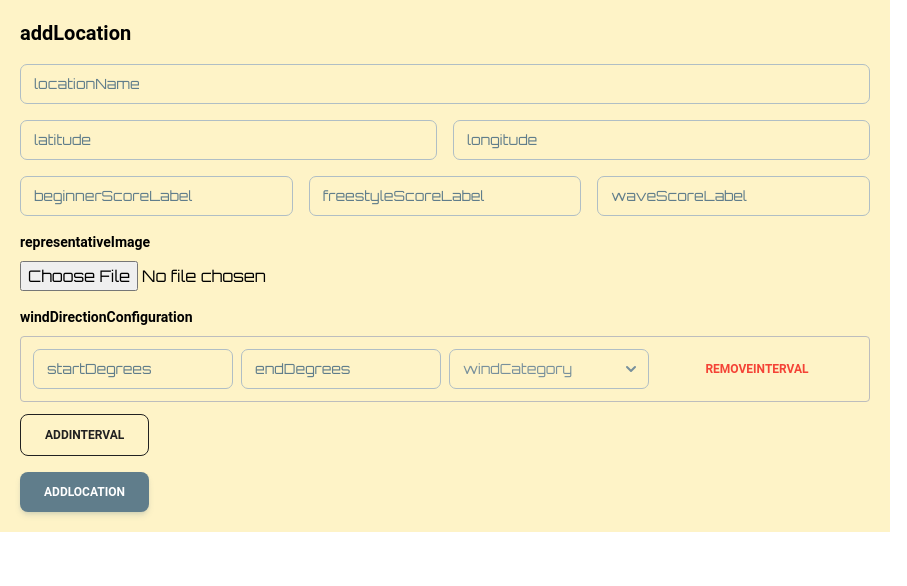
Test case: AddLocationForm › blocks submission when no wind direction classification has been chosen
Type "New Spot" into the field with test id "location-name-input" at (445, 84), box [20, 64, 870, 104]
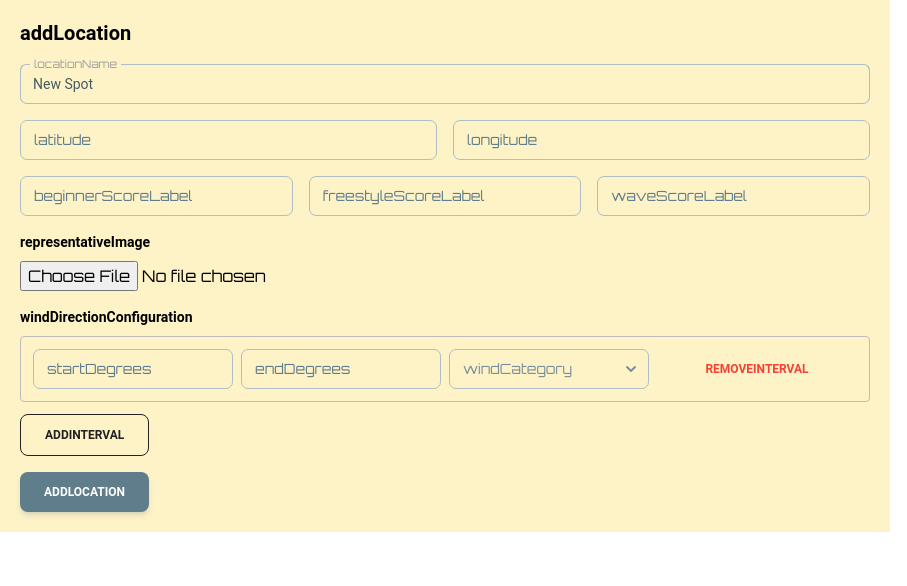
Type "58.5" into the number field with test id "location-latitude-input" at (228, 140), box [20, 120, 437, 160]
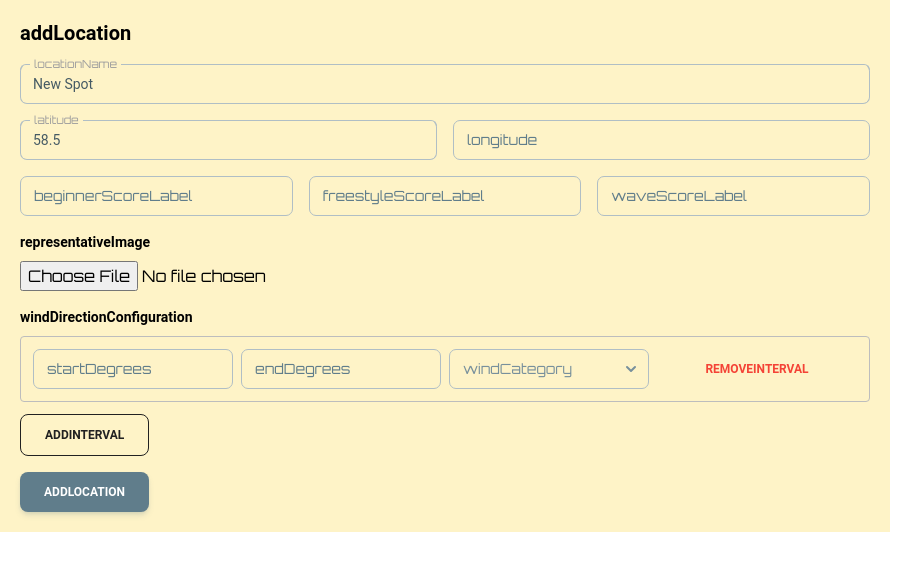
Type "5.6" into the number field with test id "location-longitude-input" at (662, 140), box [453, 120, 870, 160]
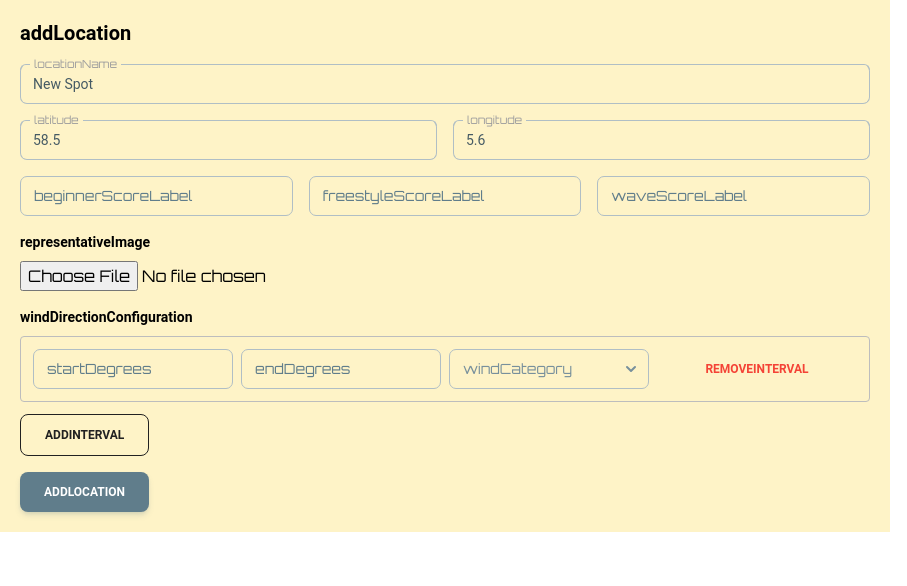
Click the button "addLocation" at (84, 492), box [20, 472, 149, 512]
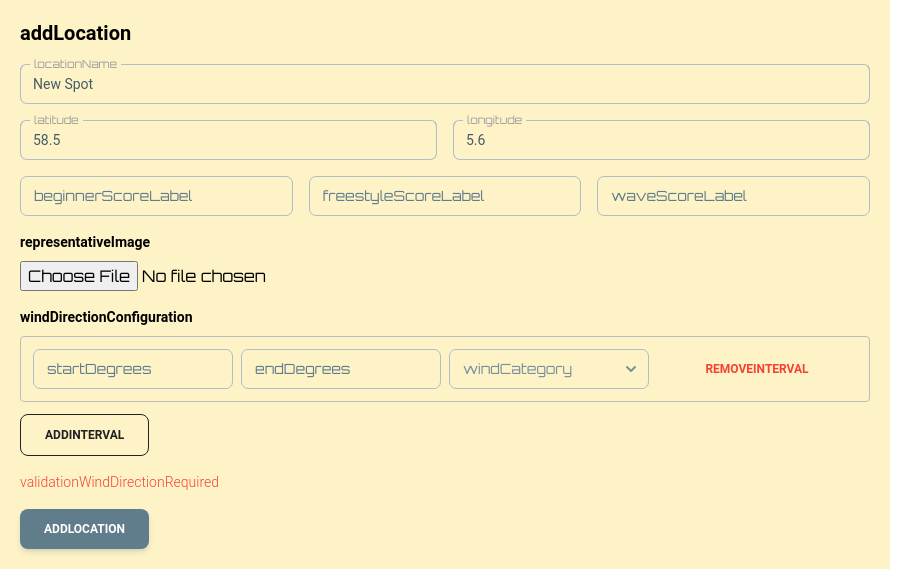
Expected: the text "validationWindDirectionRequired" is shown, [20, 474, 219, 490]
